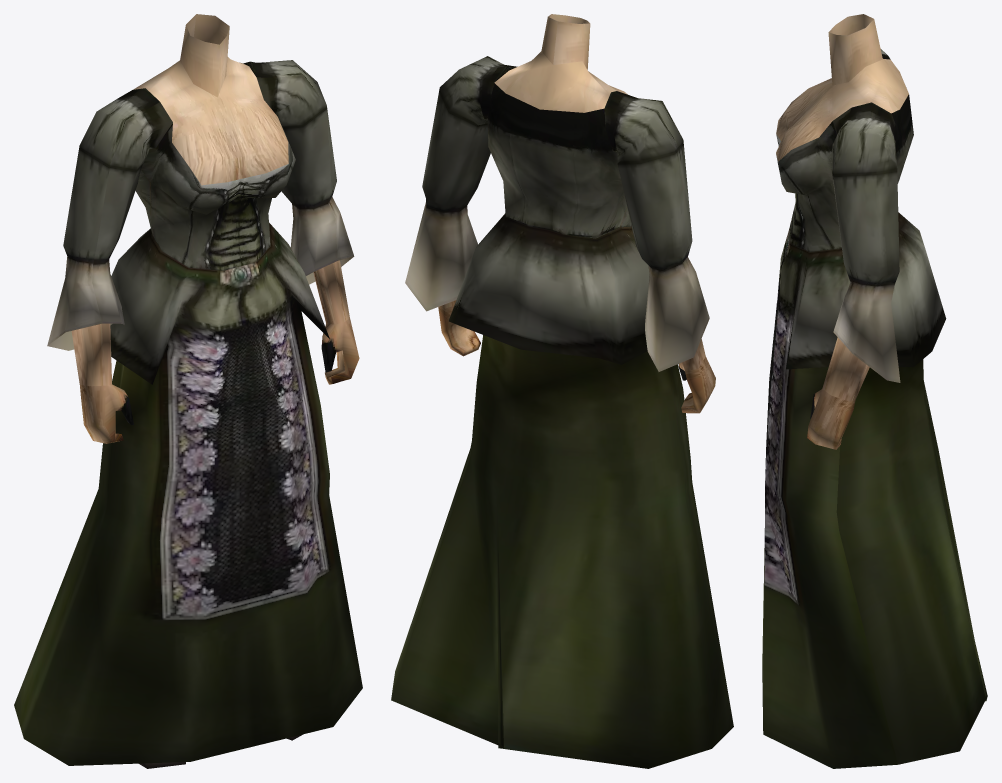
File: ARMOR_BAUBABE_M.glb
3 views of the same model, side by side, from view 1: azimuth 30°, elevation 25°; view 2: azimuth 150°, elevation 25°; view 3: azimuth 270°, elevation 25° (orthographic). The views are drawn at different scales.
Visible parts, largest first — view 1: ARMOR_BAUBABE_M; view 2: ARMOR_BAUBABE_M; view 3: ARMOR_BAUBABE_M.
Boxes of the visible parts, bbox=[...] form: ARMOR_BAUBABE_M: bbox=[14, 14, 362, 768]; ARMOR_BAUBABE_M: bbox=[391, 14, 733, 768]; ARMOR_BAUBABE_M: bbox=[762, 14, 987, 768].
Size of the model in its own units: 0.77 by 1.65 by 0.4842.
Materials: 2 (2 with a texture image).
